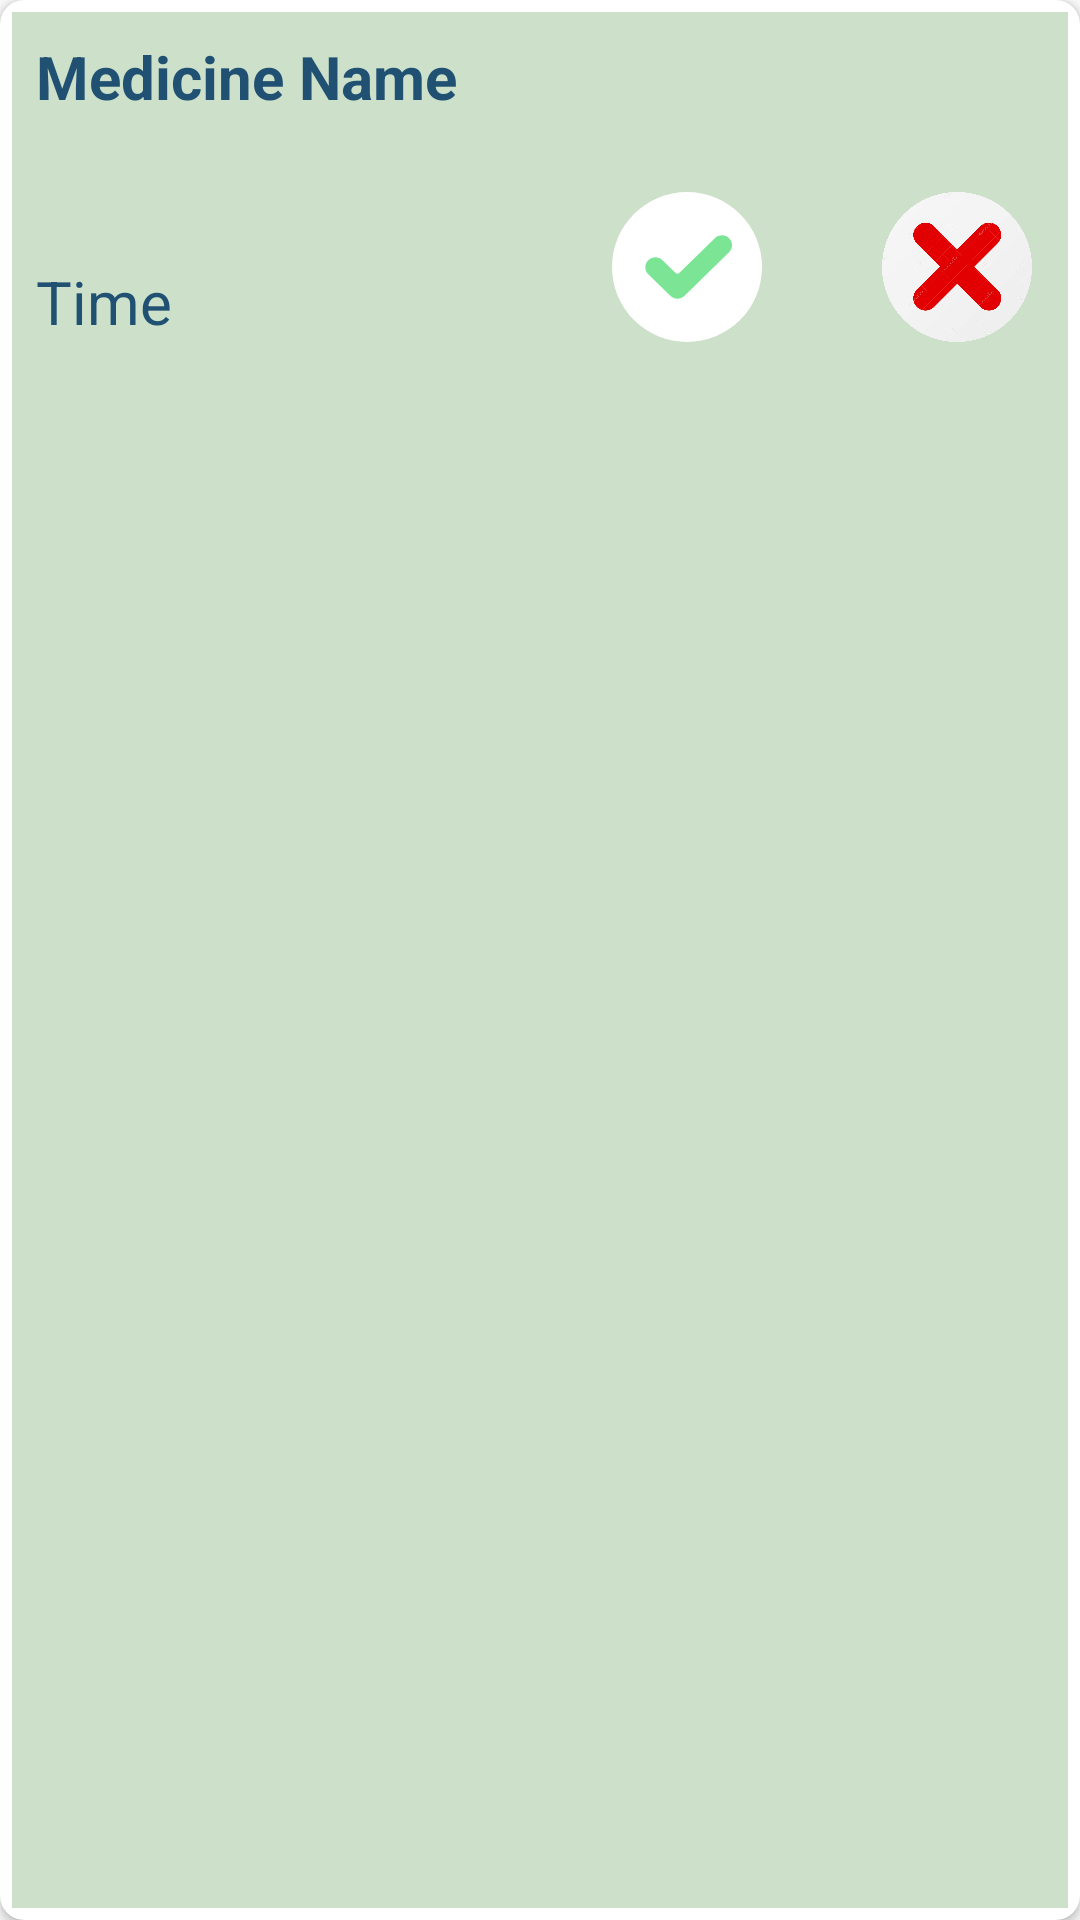

Where icons sit on this 1080 × 1920 app screen, as [x1=x1, y1=y1, x2=x2, y2=y2]:
crossimg: [x1=882, y1=192, x2=1032, y2=342]
tick: [x1=612, y1=192, x2=762, y2=342]
